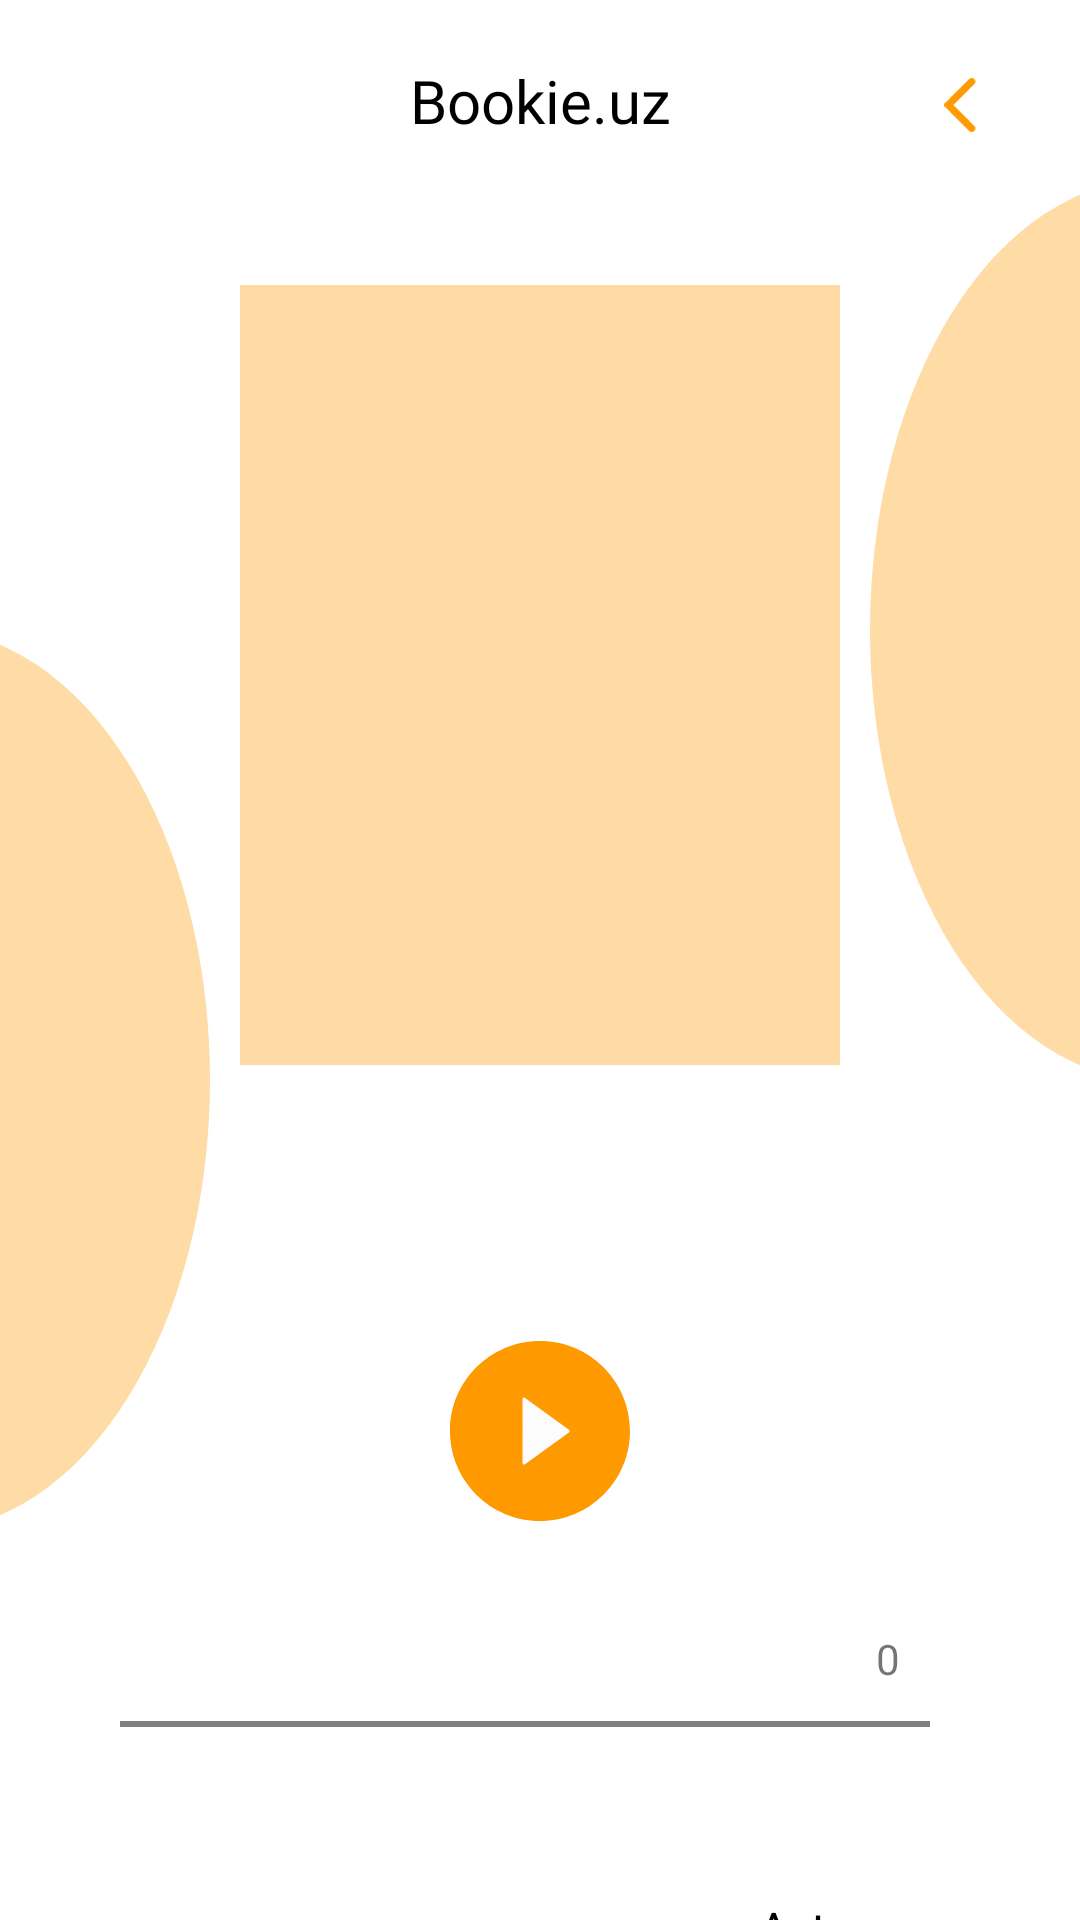

Locate icon controls on the screen. Image size 1080px×1920px, boxes as (left=x1, top=y1, right=x2, bottom=y2).
back: (left=944, top=78, right=976, bottom=132)
play: (left=450, top=1341, right=630, bottom=1521)
